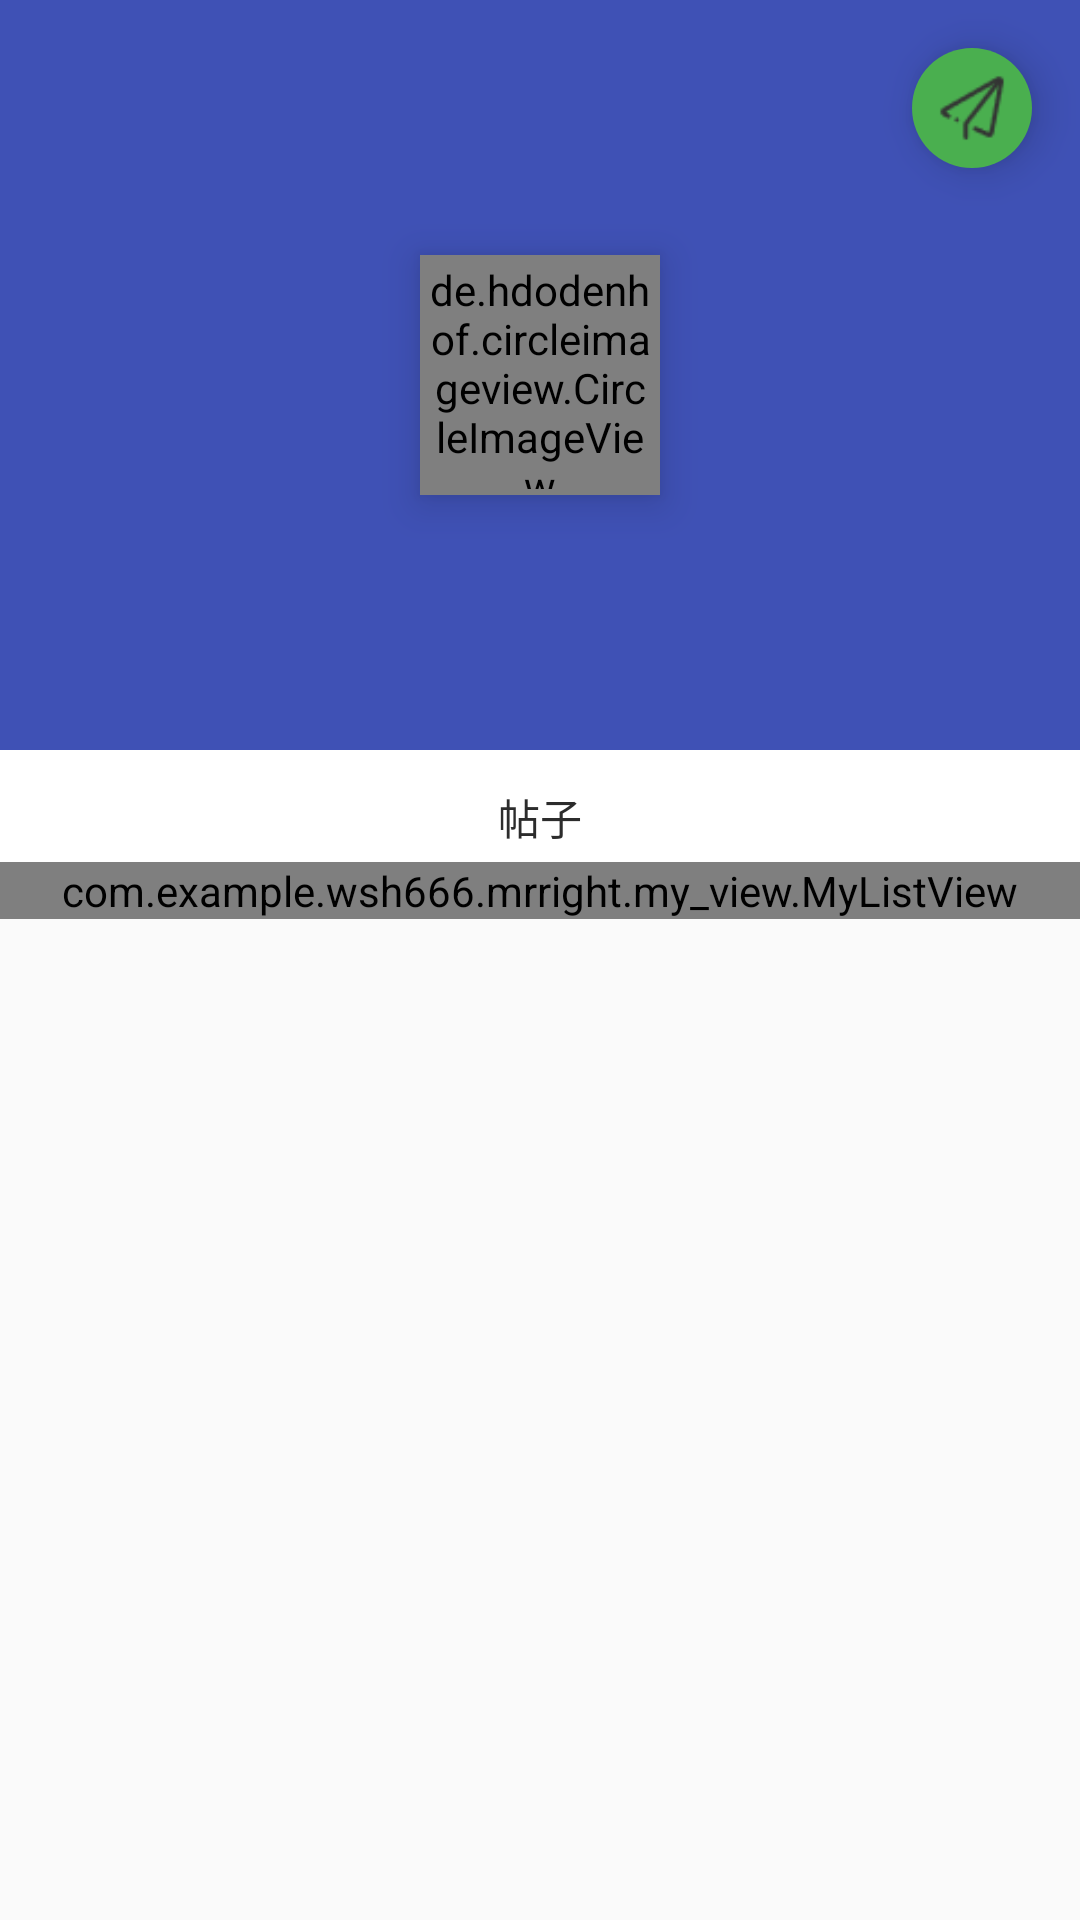

Locate icon controls on the screen. Image size 1080*1920, boxes as (x1, y1, x2, y2).
send: (912, 48, 1032, 168)
